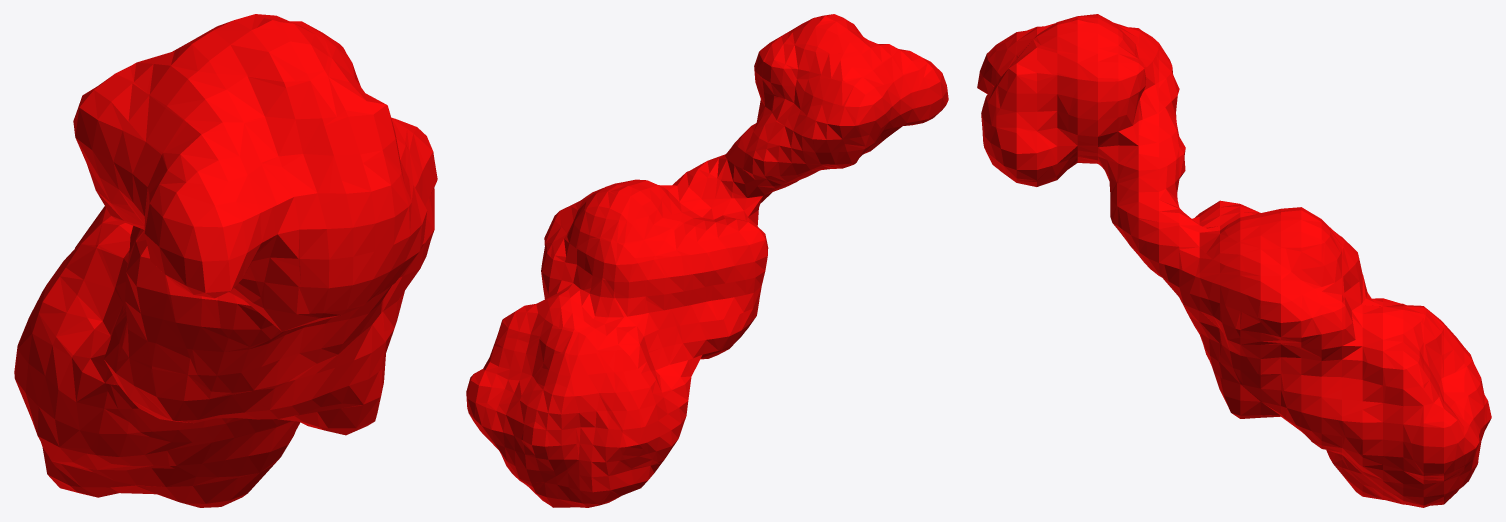
The model's file is yafC_coarse.dae.
3 views of the same model, side by side, from view 1: azimuth 30°, elevation 25°; view 2: azimuth 150°, elevation 25°; view 3: azimuth 270°, elevation 25° (orthographic). The views are drawn at different scales.
Parts seen in each view (by area): view 1: yafC; view 2: yafC; view 3: yafC.
Boxes of the visible parts, x1=… form: yafC: x1=14, y1=14, x2=437, y2=507; yafC: x1=466, y1=14, x2=948, y2=507; yafC: x1=977, y1=14, x2=1491, y2=507.
Size of the model in its own units: 60.44 by 81.26 by 88.37.
